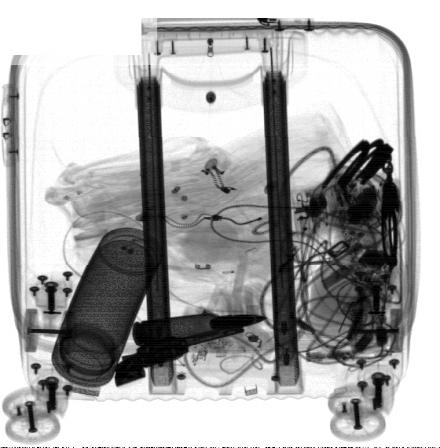Bullet: (130, 313, 268, 347)
Gun: (113, 323, 246, 389)
HandCuffs: (321, 136, 401, 276)
